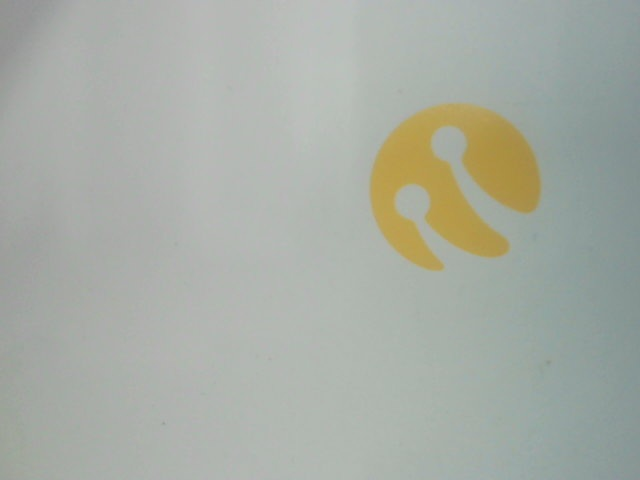AV_H3600Yellow: (356, 99, 549, 286)
